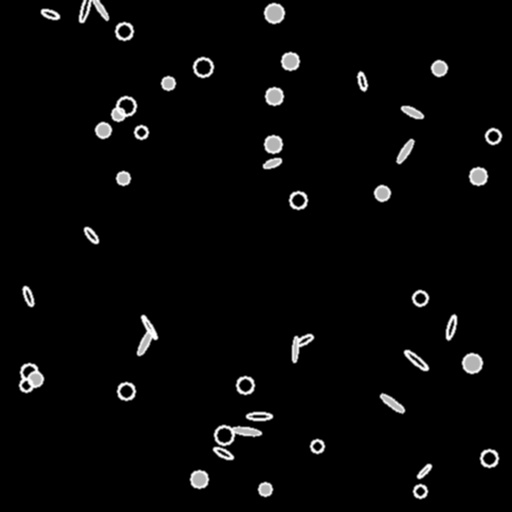pseudomonas: (403, 348, 429, 372), (379, 392, 405, 414), (395, 138, 415, 164), (136, 328, 154, 356), (140, 315, 158, 339), (400, 104, 424, 120), (91, 0, 109, 20), (212, 445, 234, 461), (445, 314, 457, 340), (21, 285, 35, 307), (78, 0, 92, 22), (231, 426, 261, 436), (416, 462, 432, 480), (83, 226, 99, 244), (40, 7, 60, 21), (295, 333, 313, 347), (262, 157, 282, 169), (246, 412, 271, 420), (357, 71, 367, 91), (292, 337, 298, 361)
synechocystis: (194, 58, 212, 76), (215, 426, 233, 444), (265, 4, 283, 22), (117, 97, 135, 115), (463, 354, 481, 372), (116, 23, 132, 39), (21, 364, 37, 380), (237, 377, 253, 393), (282, 53, 298, 69), (470, 168, 486, 184), (481, 450, 497, 466), (191, 471, 207, 487), (266, 88, 282, 104), (118, 383, 134, 399), (290, 192, 306, 208), (265, 136, 281, 152), (486, 129, 500, 143), (432, 61, 446, 75), (28, 372, 42, 386), (413, 291, 427, 305), (96, 123, 110, 137), (375, 186, 389, 200), (414, 485, 426, 497), (112, 108, 124, 120), (259, 483, 271, 495), (311, 440, 323, 452), (135, 126, 147, 138), (162, 77, 174, 89), (20, 379, 32, 391), (117, 172, 129, 184)
